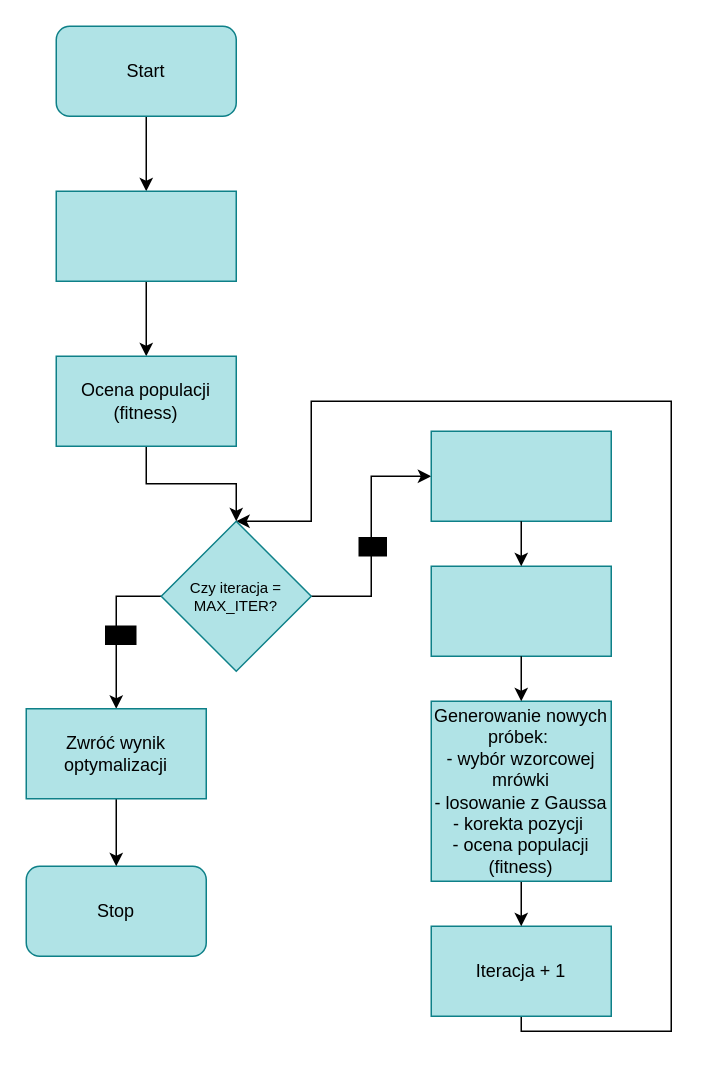
This 710x1070 diagram has some shape labels left out. Here are the shapes that lost their labels. From the top down, the box of each, then its label:
(55, 190, 236, 281): Inicjalizacja populacji
(430, 430, 611, 521): Oblicz prawdopodobieństwa wyboru
(430, 565, 611, 656): Oblicz średnie i odchylenie
